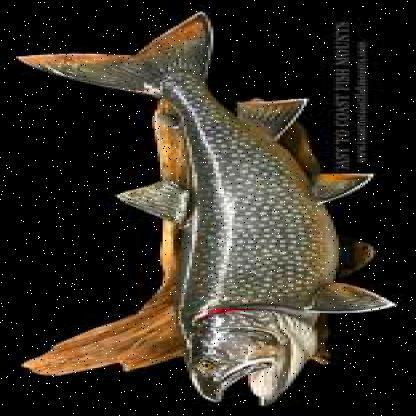fish: (9, 8, 394, 406)
